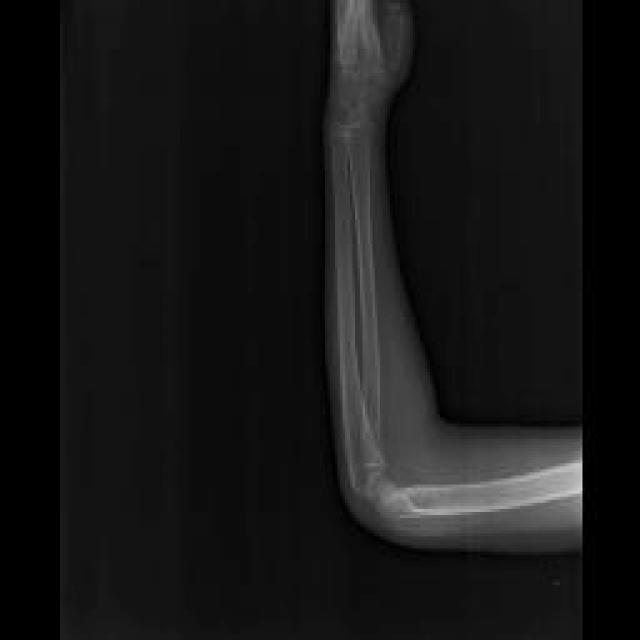normal: (326, 3, 581, 519)
